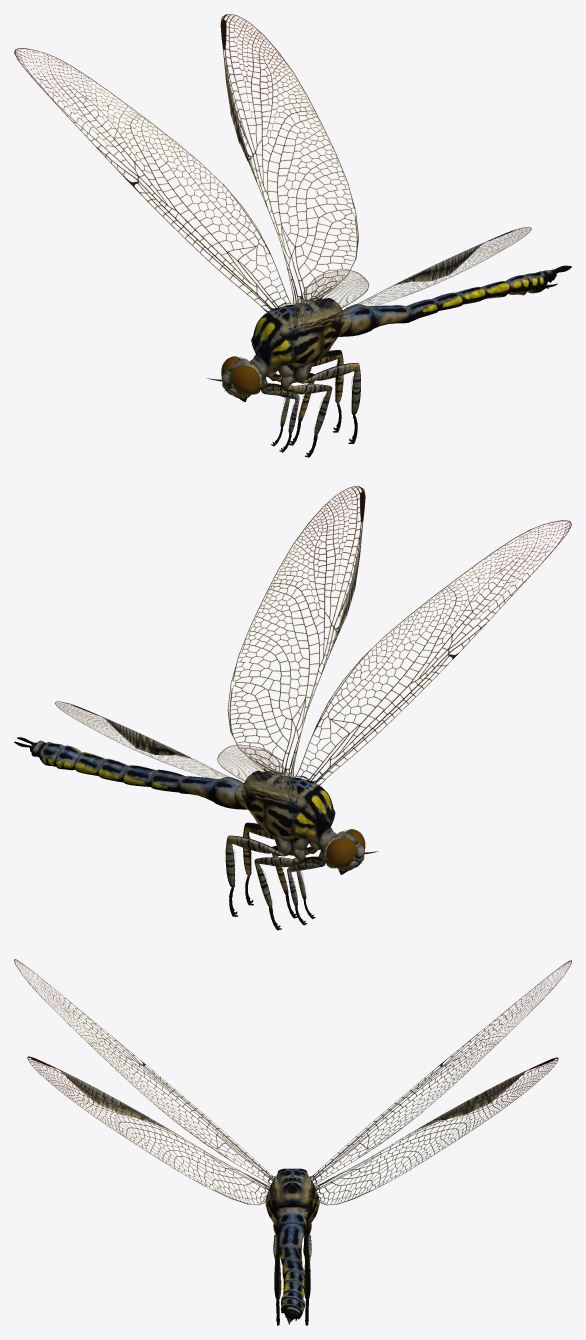
3 views of the same model, one above another, from view 1: azimuth 30°, elevation 25°; view 2: azimuth 150°, elevation 25°; view 3: azimuth 270°, elevation 25° (orthographic). The views are drawn at different scales.
Parts seen in each view (by area): view 1: Animal; view 2: Animal; view 3: Animal.
Part boxes in pixels (x1,y1,x2,y2): Animal: (14, 14, 571, 457); Animal: (14, 486, 571, 930); Animal: (14, 959, 571, 1325).
Bounding box in the file's own units: 2.42 × 1.85 × 3.2.
9 materials, 9 textured.
